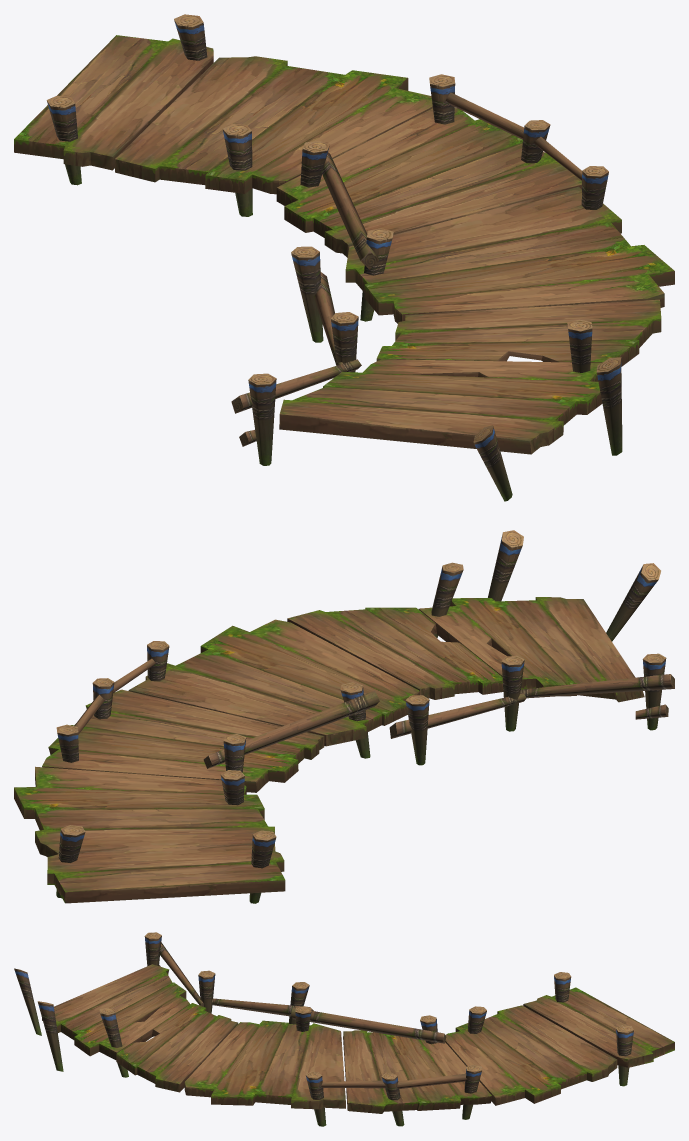
Rendered from fb_lyhg_zj_19_a.FBX.
The picture shows the model from 3 angles, top to bottom: view 1: azimuth 30°, elevation 25°; view 2: azimuth 150°, elevation 25°; view 3: azimuth 270°, elevation 25°; orthographic projection. The views are drawn at different scales.
Parts seen in each view (by area): view 1: fb_lyhg_zj_19_a; view 2: fb_lyhg_zj_19_a; view 3: fb_lyhg_zj_19_a.
Part boxes in pixels (x1,y1,x2,y2): fb_lyhg_zj_19_a: [14, 14, 674, 501]; fb_lyhg_zj_19_a: [14, 530, 674, 903]; fb_lyhg_zj_19_a: [14, 932, 674, 1126].
Bounding box in the file's own units: 784 × 160 × 1414.
